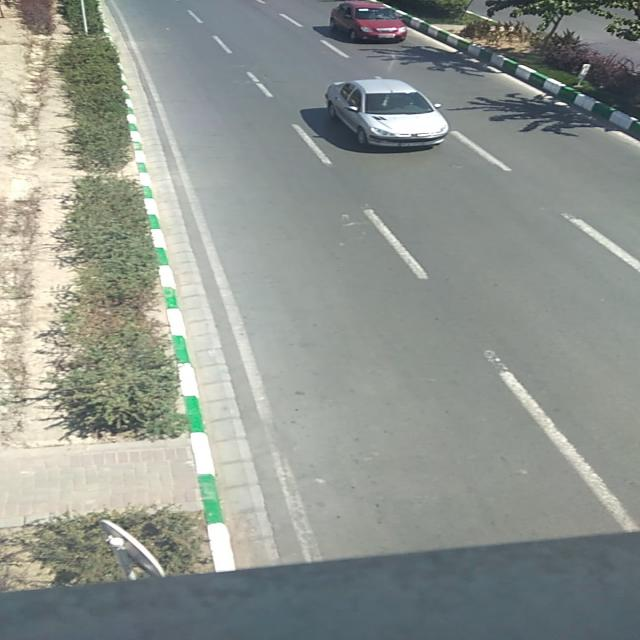car: (323, 78, 449, 148), (328, 2, 409, 43)
